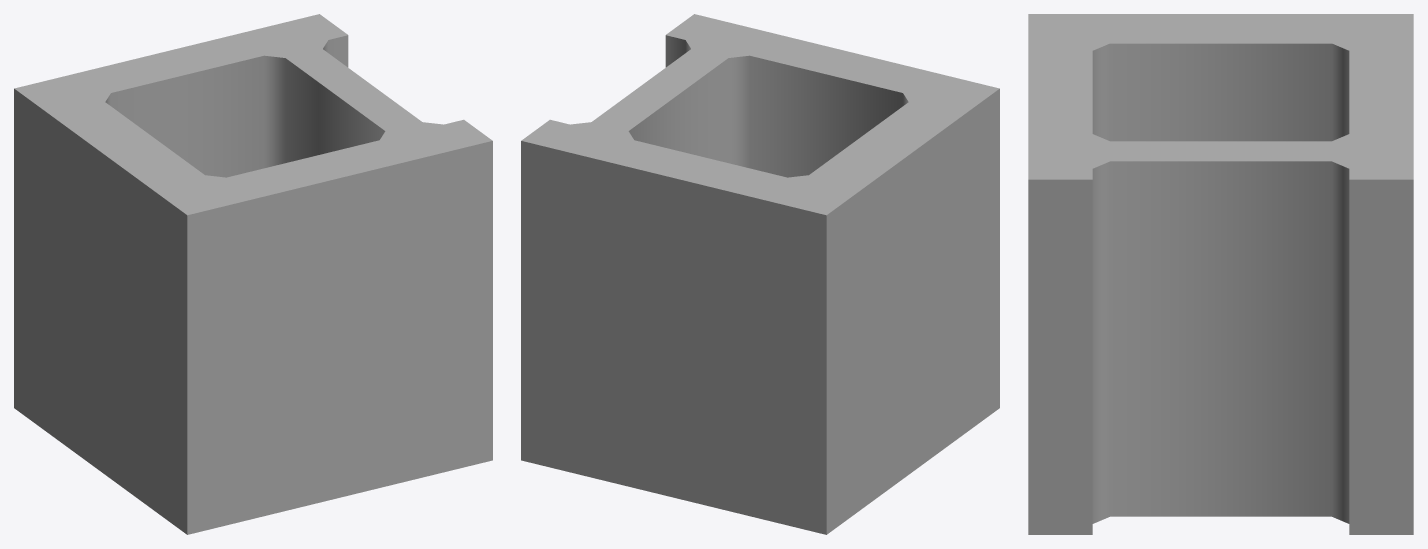
The picture shows the model from 3 angles, left to right: view 1: azimuth 30°, elevation 25°; view 2: azimuth 150°, elevation 25°; view 3: azimuth 270°, elevation 25°; orthographic projection. The views are drawn at different scales.
Parts seen in each view (by area): view 1: CMU-halfcorner; view 2: CMU-halfcorner; view 3: CMU-halfcorner.
Boxes of the visible parts, x1=… form: CMU-halfcorner: x1=14, y1=14, x2=492, y2=534; CMU-halfcorner: x1=521, y1=14, x2=999, y2=534; CMU-halfcorner: x1=1028, y1=14, x2=1413, y2=534.
Size of what is drawn, in the model's own units: 0.2 by 0.2 by 0.1964.
Materials: 1 (1 with a texture image).
